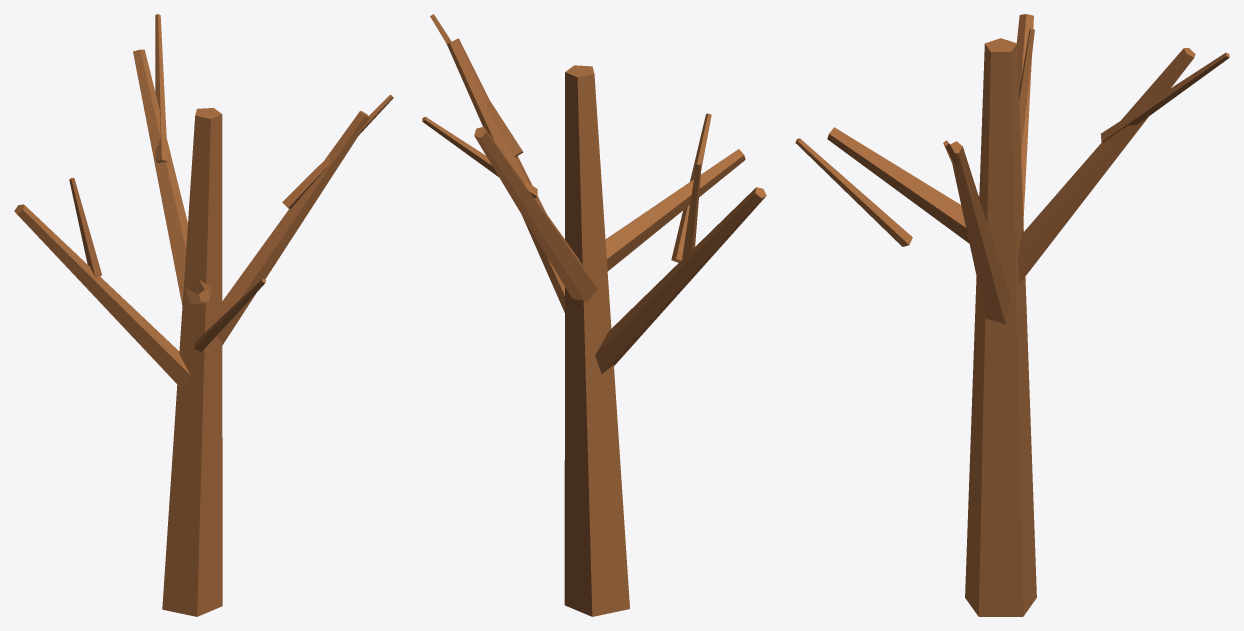
3 views of the same model, side by side, from view 1: azimuth 30°, elevation 25°; view 2: azimuth 150°, elevation 25°; view 3: azimuth 270°, elevation 25° (orthographic). The views are drawn at different scales.
Visible parts, largest first — view 1: body; view 2: body; view 3: body.
Boxes of the visible parts, x1,y1,x2,y2 form: body: [14, 14, 393, 616]; body: [422, 14, 766, 616]; body: [795, 14, 1229, 616].
Size of the model in its own units: 3.55 by 4.98 by 3.33.
